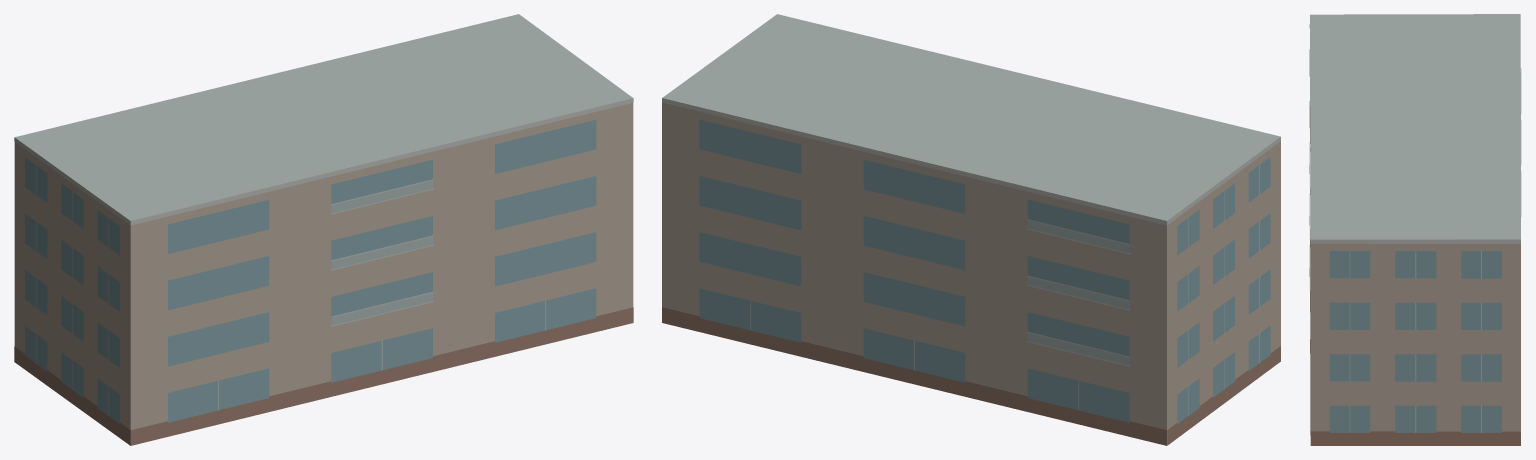
File: survey-upis-32771289.glb
3 views of the same model, side by side, from view 1: azimuth 30°, elevation 25°; view 2: azimuth 150°, elevation 25°; view 3: azimuth 270°, elevation 25° (orthographic). The views are drawn at different scales.
Visible parts, largest first — view 1: survey-upis-32771289.tmp; view 2: survey-upis-32771289.tmp; view 3: survey-upis-32771289.tmp.
Boxes of the visible parts, box(x1,y1,x2,y2) form: survey-upis-32771289.tmp: box(14, 14, 633, 445); survey-upis-32771289.tmp: box(662, 14, 1280, 445); survey-upis-32771289.tmp: box(1309, 14, 1521, 445).
Bounding box in the file's own units: 28.67 × 12.2 × 11.38.
